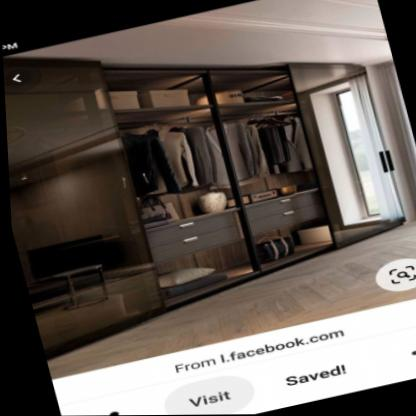Transparent Closet: (2, 57, 416, 359)
